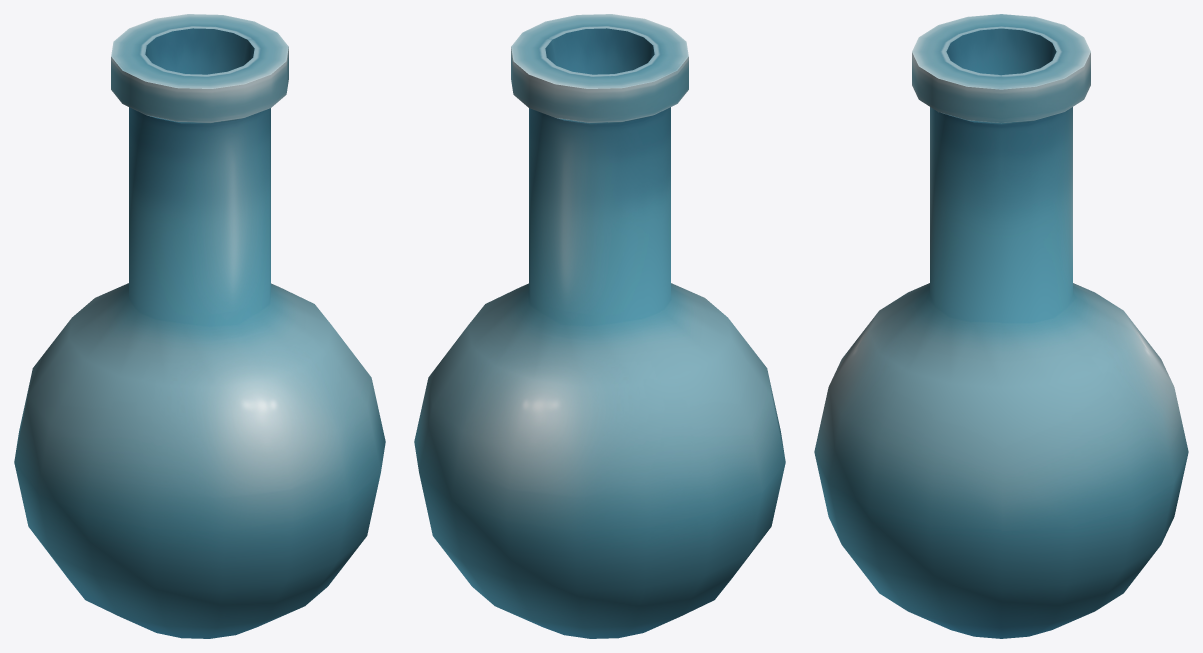
File: Flask_1.FBX
3 views of the same model, side by side, from view 1: azimuth 30°, elevation 25°; view 2: azimuth 150°, elevation 25°; view 3: azimuth 270°, elevation 25° (orthographic).
Parts seen in each view (by area): view 1: Flask_1; view 2: Flask_1; view 3: Flask_1.
Part boxes in pixels (x1,y1,x2,y2): Flask_1: (14,14,385,638); Flask_1: (414,14,785,638); Flask_1: (814,14,1188,638).
Bounding box in the file's own units: 251 × 422 × 251.
